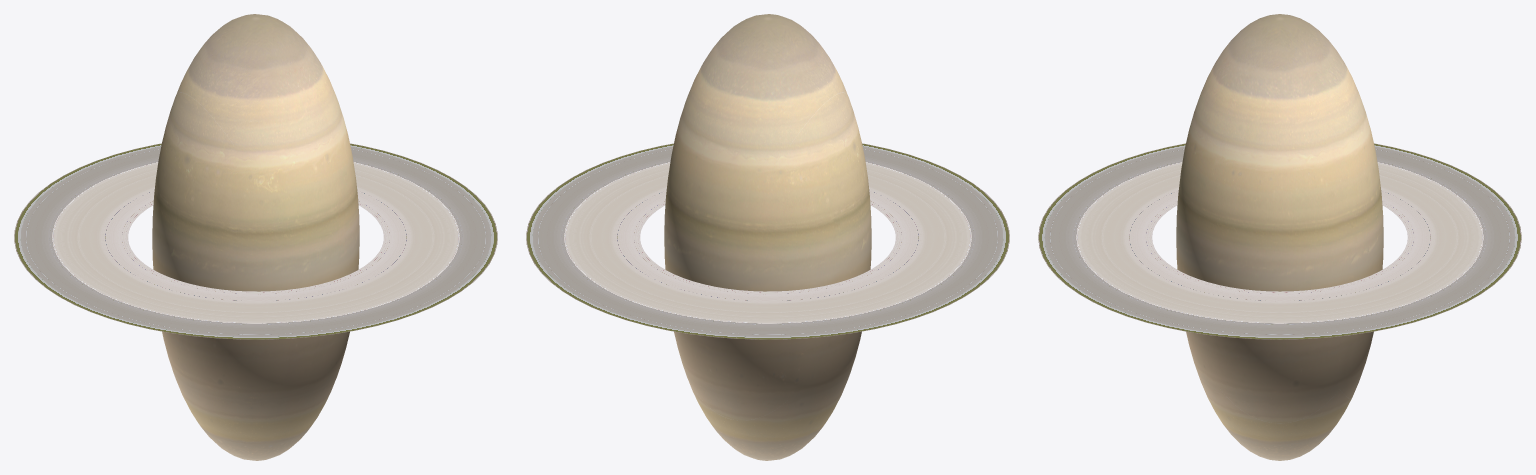
File: SaturnModel.obj
The picture shows the model from 3 angles, left to right: view 1: azimuth 30°, elevation 25°; view 2: azimuth 150°, elevation 25°; view 3: azimuth 270°, elevation 25°; orthographic projection.
Visible parts, largest first — view 1: obj1, obj2; view 2: obj1, obj2; view 3: obj1, obj2.
Boxes of the visible parts, <box> form: obj1: <box>152,14,359,460</box>; obj2: <box>14,143,497,339</box>; obj1: <box>664,14,871,460</box>; obj2: <box>526,143,1009,339</box>; obj1: <box>1176,14,1383,460</box>; obj2: <box>1038,143,1521,339</box>.
Bounding box in the file's own units: 1 × 1 × 1.
